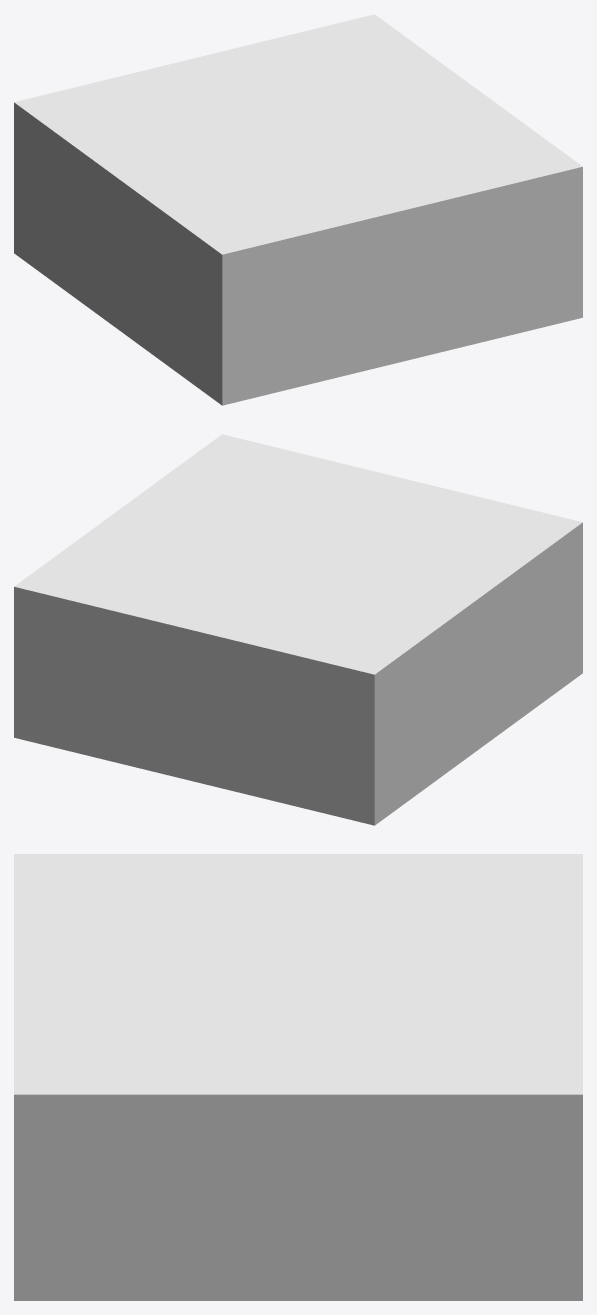
The picture shows the model from 3 angles, top to bottom: view 1: azimuth 30°, elevation 25°; view 2: azimuth 150°, elevation 25°; view 3: azimuth 270°, elevation 25°; orthographic projection. The views are drawn at different scales.
Visible parts, largest first — view 1: Cube_10x10x4; view 2: Cube_10x10x4; view 3: Cube_10x10x4.
Part boxes in pixels (<box>): Cube_10x10x4: <box>14,14,582,405</box>; Cube_10x10x4: <box>14,434,582,825</box>; Cube_10x10x4: <box>14,854,582,1300</box>.
Size of the model in its own units: 10 by 4 by 10.
